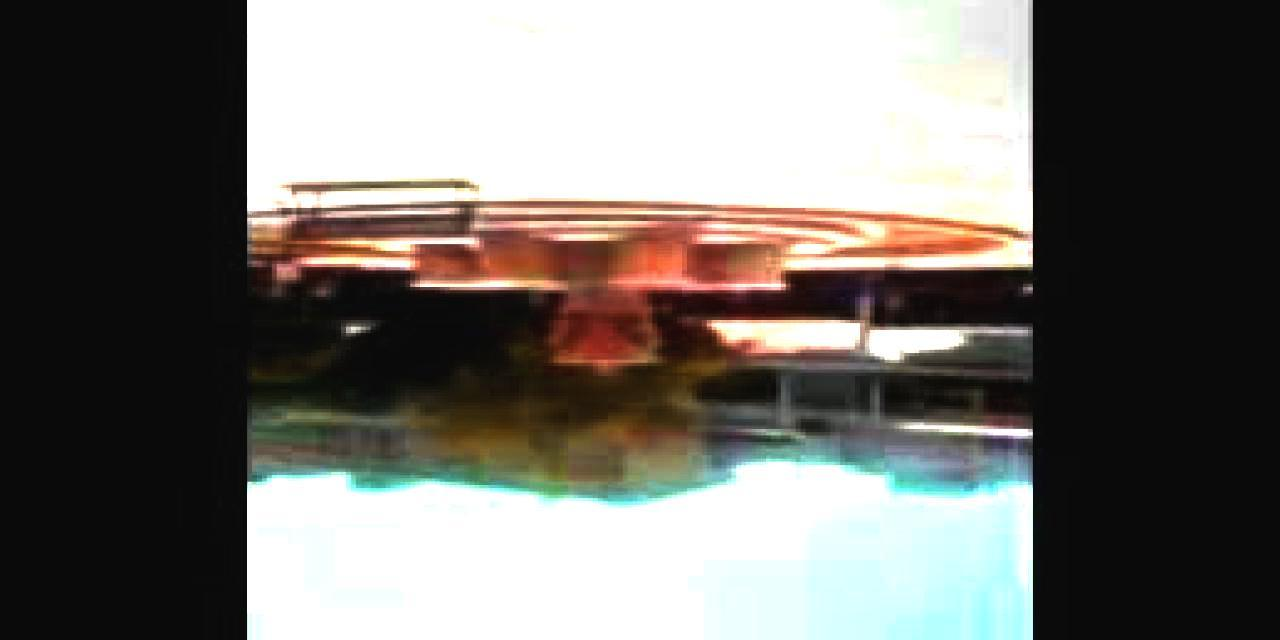Liontaria: (407, 230, 780, 371)
